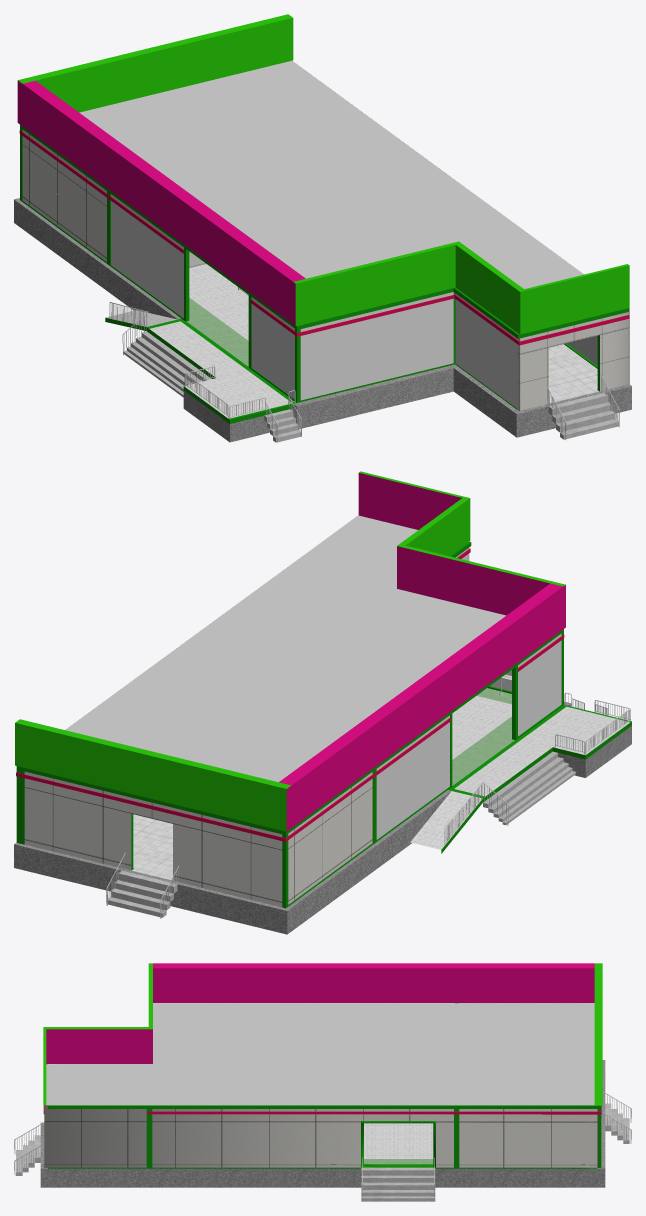
3 views of the same model, one above another, from view 1: azimuth 30°, elevation 25°; view 2: azimuth 150°, elevation 25°; view 3: azimuth 270°, elevation 25° (orthographic). The views are drawn at different scales.
Visible parts, largest first — view 1: Cube.001, 5TopRefl.001, 5glass.001, 5bot, 5base, 5TopRefl.002, 5pol.003, 5line, 5glass.002, 5stup2, 5TopRefl, 5pol (+4 smaller); view 2: Cube.001, 5TopRefl.001, 5base, 5TopRerf, 5bot, 5pol.003, 5glass.002, 5line, 5stup2, 5pol.001, 5pol, Fence.003 (+2 smaller); view 3: Cube.001, 5base, 5TopRefl.001, 5bot, 5line, 5stup2, 5pol, Fence.008, 5pol.005.
Boxes of the visible parts, x1=… form: Cube.001: x1=79, y1=60, x2=583, y2=288; 5TopRefl.001: x1=17, y1=14, x2=628, y2=334; 5glass.001: x1=300, y1=292, x2=517, y2=408; 5bot: x1=14, y1=198, x2=631, y2=437; 5base: x1=22, y1=129, x2=629, y2=411; 5TopRefl.002: x1=295, y1=245, x2=518, y2=332; 5pol.003: x1=105, y1=310, x2=296, y2=442; 5line: x1=19, y1=125, x2=629, y2=409; 5glass.002: x1=111, y1=194, x2=294, y2=398; 5stup2: x1=123, y1=331, x2=618, y2=442; 5TopRefl: x1=520, y1=265, x2=629, y2=334; 5pol: x1=189, y1=264, x2=248, y2=340; Cube.001: x1=65, y1=515, x2=505, y2=782; 5TopRefl.001: x1=15, y1=471, x2=565, y2=831; 5base: x1=24, y1=542, x2=469, y2=907; 5TopRerf: x1=15, y1=723, x2=286, y2=831; 5bot: x1=14, y1=701, x2=571, y2=934; 5pol.003: x1=410, y1=705, x2=631, y2=853; 5glass.002: x1=376, y1=633, x2=561, y2=839; 5line: x1=16, y1=541, x2=564, y2=908; 5stup2: x1=106, y1=751, x2=575, y2=918; 5pol.001: x1=132, y1=814, x2=172, y2=880; 5pol: x1=452, y1=696, x2=511, y2=759; Fence.003: x1=444, y1=692, x2=630, y2=844; Cube.001: x1=46, y1=1003, x2=594, y2=1105; 5base: x1=44, y1=1105, x2=597, y2=1168; 5TopRefl.001: x1=43, y1=963, x2=602, y2=1105; 5bot: x1=40, y1=1060, x2=605, y2=1187; 5line: x1=43, y1=1003, x2=601, y2=1168; 5stup2: x1=16, y1=1091, x2=631, y2=1201; 5pol: x1=364, y1=1123, x2=433, y2=1158; Fence.008: x1=14, y1=1122, x2=44, y2=1175; 5pol.005: x1=364, y1=1159, x2=433, y2=1164.
Bounding box in the file's own units: 1801 × 682 × 3219.
